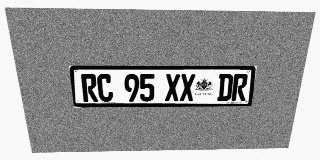5: (140, 74, 155, 101)
9: (124, 74, 140, 102)
C: (97, 74, 113, 102)
D: (217, 74, 234, 101)
R: (81, 74, 98, 102), (231, 74, 248, 101)
X: (165, 74, 180, 101), (180, 74, 195, 101)
